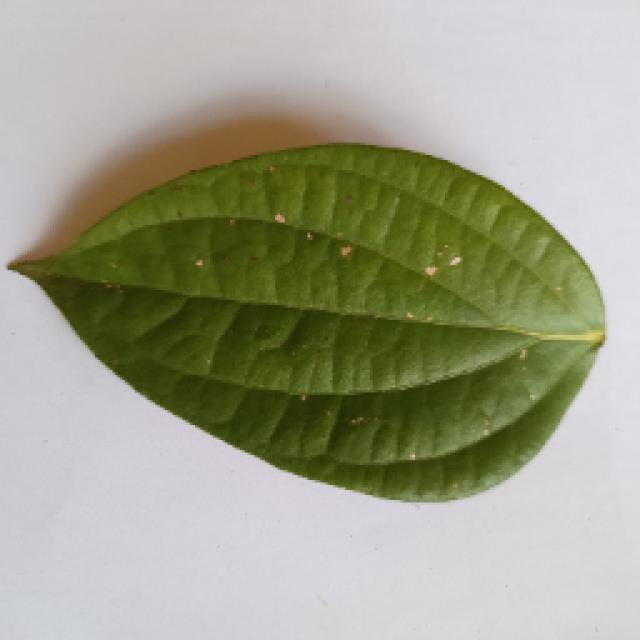pollu-disease: (0, 128, 605, 510)
